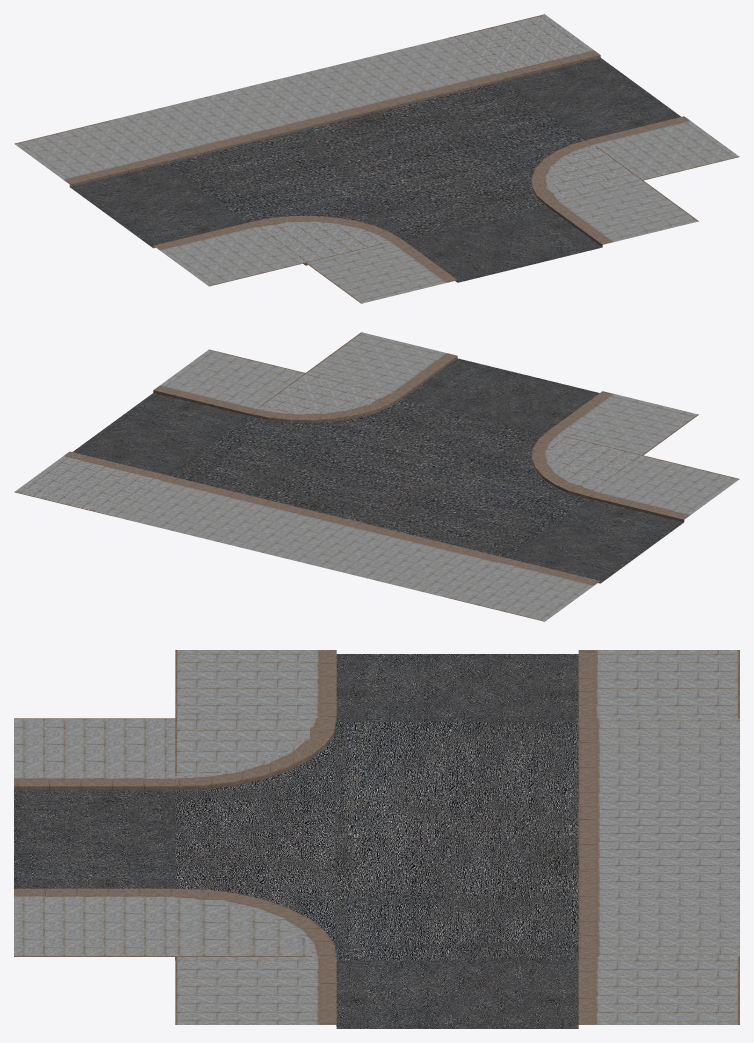
The model's file is TCrossLowPoly.obj.
The picture shows the model from 3 angles, top to bottom: view 1: azimuth 30°, elevation 25°; view 2: azimuth 150°, elevation 25°; view 3: azimuth 270°, elevation 25°; orthographic projection. The views are drawn at different scales.
Visible parts, largest first — view 1: CruzeTLowPoly; view 2: CruzeTLowPoly; view 3: CruzeTLowPoly.
Boxes of the visible parts, left/top/right/bottom form: CruzeTLowPoly: left=14, top=14, right=739, bottom=303; CruzeTLowPoly: left=14, top=332, right=739, bottom=621; CruzeTLowPoly: left=14, top=650, right=739, bottom=1028.
Size of the model in its own units: 11 by 0.0523 by 9.
